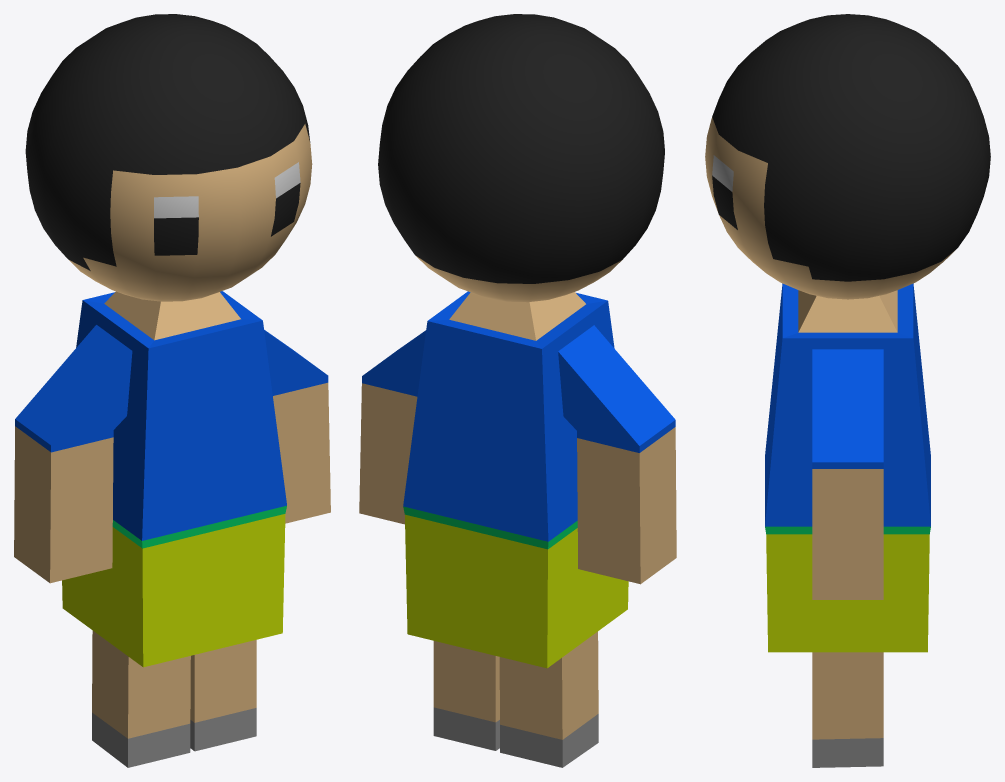
Rendered from MaleNPC.fbx.
3 views of the same model, side by side, from view 1: azimuth 30°, elevation 25°; view 2: azimuth 150°, elevation 25°; view 3: azimuth 270°, elevation 25° (orthographic).
Visible parts, largest first — view 1: MaleNPC_Body, MaleNPC_LeftArm, MaleNPC_LeftLeg, MaleNPC_RightArm, MaleNPC_Rightleg; view 2: MaleNPC_Body, MaleNPC_LeftArm, MaleNPC_LeftLeg, MaleNPC_RightArm, MaleNPC_Rightleg; view 3: MaleNPC_Body, MaleNPC_RightArm, MaleNPC_Rightleg.
Boxes of the visible parts, x1,y1,x2,y2 form: MaleNPC_Body: [25, 14, 312, 667]; MaleNPC_LeftArm: [14, 325, 132, 583]; MaleNPC_LeftLeg: [92, 631, 190, 767]; MaleNPC_RightArm: [264, 329, 330, 523]; MaleNPC_Rightleg: [190, 640, 256, 751]; MaleNPC_Body: [378, 14, 664, 668]; MaleNPC_LeftArm: [558, 325, 676, 584]; MaleNPC_LeftLeg: [499, 631, 598, 767]; MaleNPC_RightArm: [359, 330, 425, 524]; MaleNPC_Rightleg: [433, 641, 499, 750]; MaleNPC_Body: [705, 14, 990, 652]; MaleNPC_RightArm: [812, 349, 883, 599]; MaleNPC_Rightleg: [812, 652, 883, 767].
Size of the model in its own units: 2.25 by 5.46 by 2.
